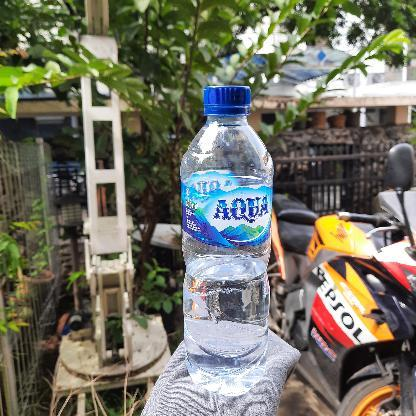Plastic Bottle: (180, 82, 274, 402)
